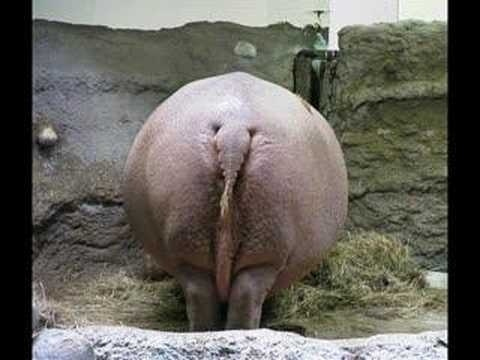hipopotamo: (116, 57, 356, 340)
